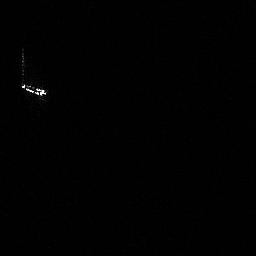ship: (18, 80, 50, 98)
